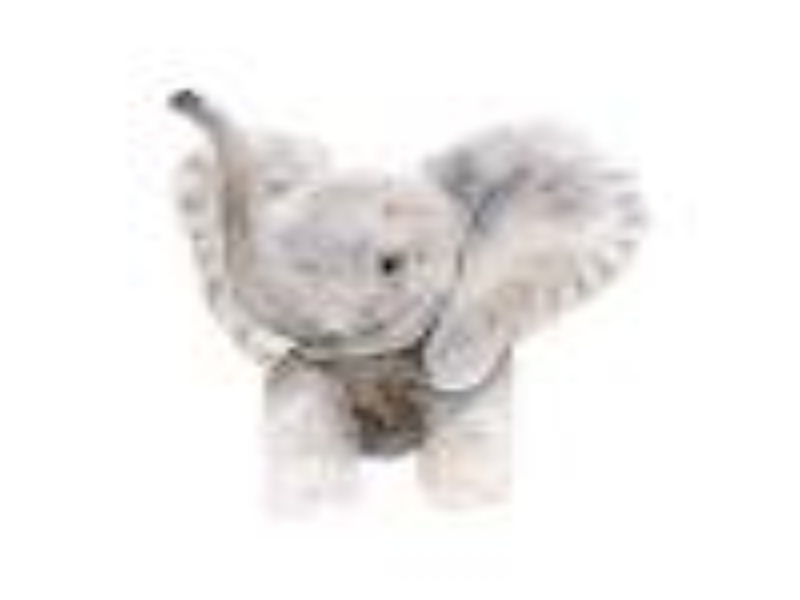elephant: (142, 59, 666, 524)
